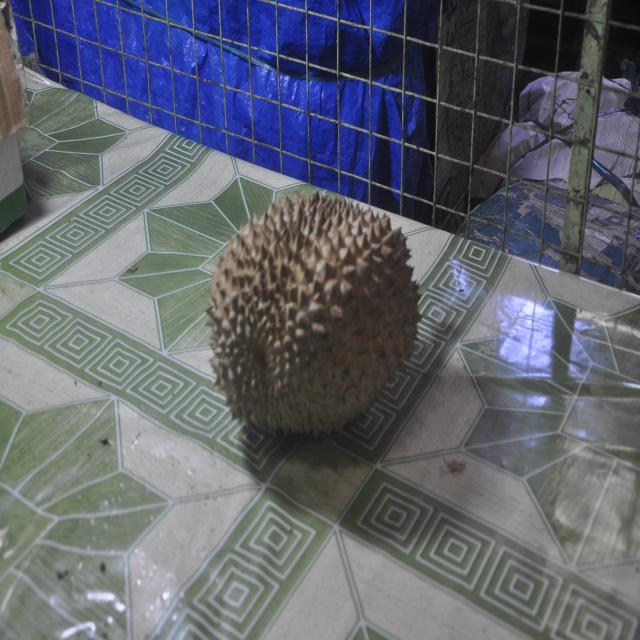mature: (207, 193, 421, 434)
